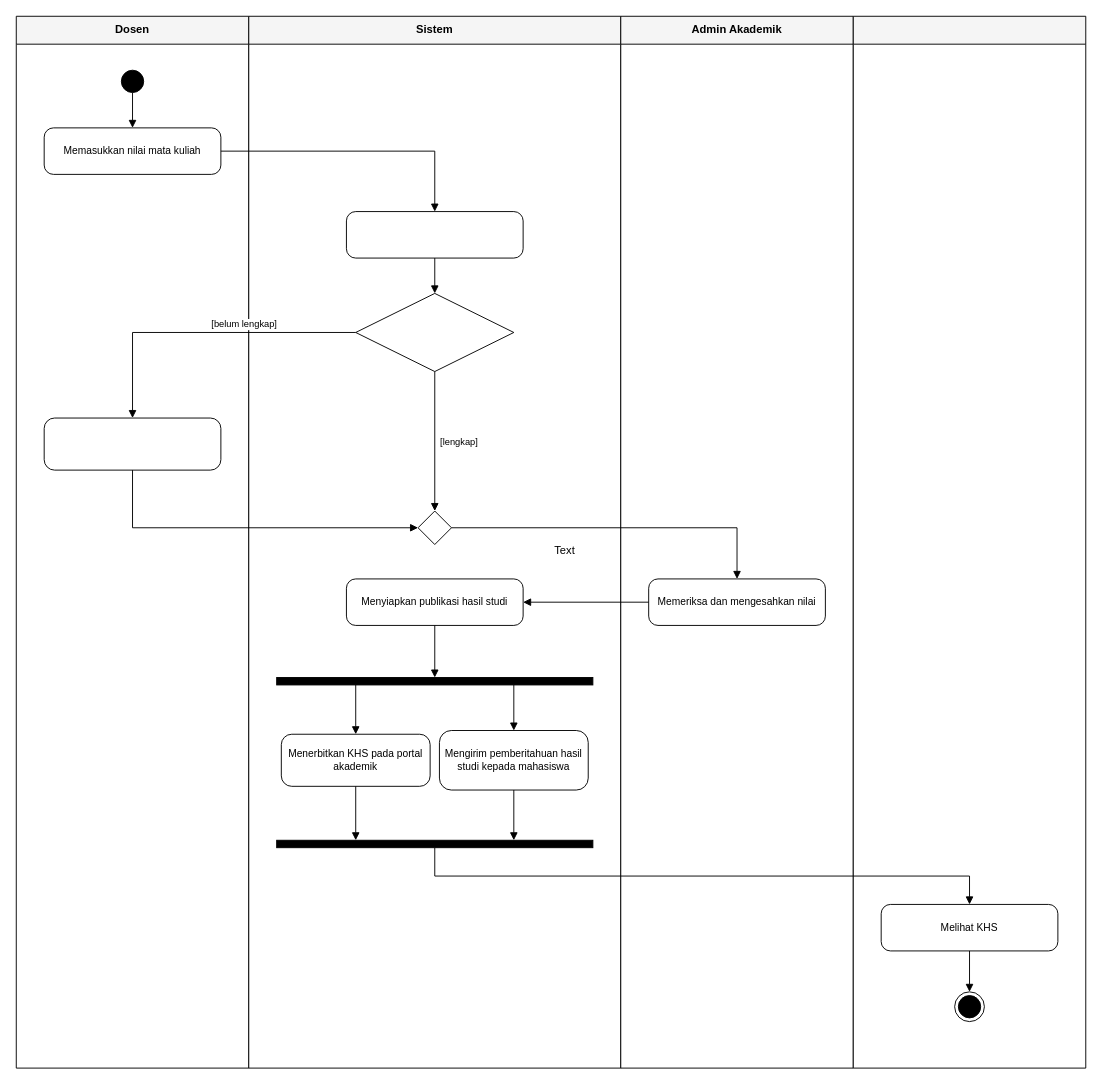
Some shapes in this 1102 by 1084 pixel diagram are drawn without their labels. Each missing label, with the box of its shape:
Mahasiswa: (852, 15, 1086, 1068)
Melengkapi nilai mata kuliah yang belum lengkap: (43, 417, 221, 470)
Menyimpan nilai: (345, 211, 523, 258)
Nilai sudah lengkap?: (355, 292, 514, 372)
